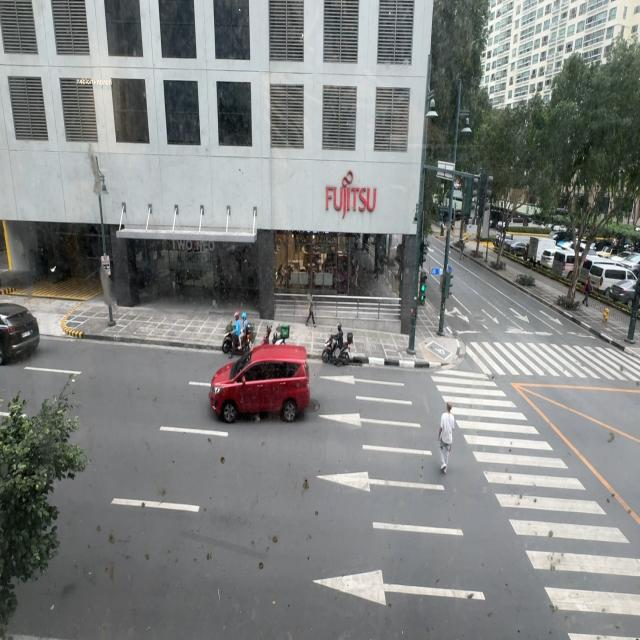jaywalking: (438, 400, 454, 472)
pedestrain: (307, 294, 317, 326), (583, 277, 593, 306)
